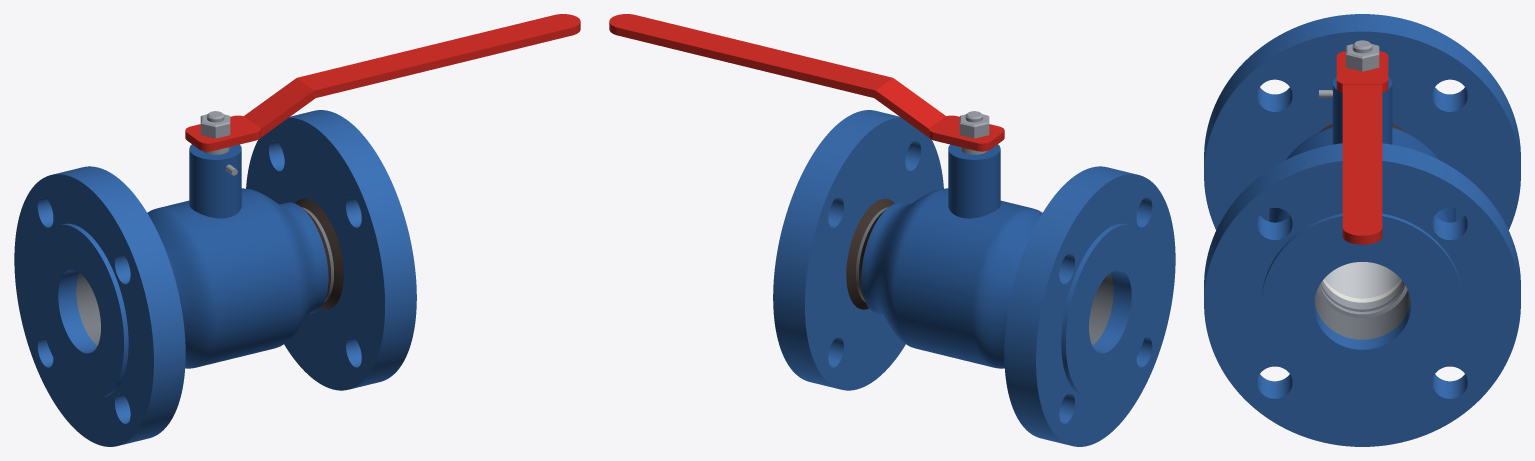
The model's file is kran_DN50_PN40_sborka.glb.
The picture shows the model from 3 angles, left to right: view 1: azimuth 30°, elevation 25°; view 2: azimuth 150°, elevation 25°; view 3: azimuth 270°, elevation 25°; orthographic projection. The views are drawn at different scales.
Parts seen in each view (by area): view 1: 12_flanets_L, 12_flanets_R, 03_korpus, 13_rukoyatka, shov_1_R, 04_patrubok_L, 14_gaika; view 2: 12_flanets_L, 12_flanets_R, 03_korpus, 13_rukoyatka, shov_1_R, 04_patrubok_L, 14_gaika; view 3: 12_flanets_R, 12_flanets_L, 13_rukoyatka, 03_korpus, 04_patrubok_R, 01_probka_sharovaya, 14_gaika, 08_shaiba_R, 06_vtulka_R, 05_koltso_upl_shara_R.
Boxes of the visible parts, left/top/right/bottom form: 12_flanets_L: left=14, top=166, right=185, bottom=446; 12_flanets_R: left=246, top=110, right=416, bottom=390; 03_korpus: left=147, top=144, right=328, bottom=368; 13_rukoyatka: left=185, top=14, right=580, bottom=151; shov_1_R: left=295, top=198, right=343, bottom=309; 04_patrubok_L: left=76, top=273, right=100, bottom=345; 14_gaika: left=200, top=114, right=230, bottom=138; 12_flanets_L: left=1004, top=166, right=1175, bottom=446; 12_flanets_R: left=773, top=110, right=943, bottom=390; 03_korpus: left=861, top=144, right=1042, bottom=368; 13_rukoyatka: left=609, top=14, right=1004, bottom=151; shov_1_R: left=846, top=198, right=894, bottom=309; 04_patrubok_L: left=1089, top=273, right=1113, bottom=345; 14_gaika: left=959, top=114, right=989, bottom=138; 12_flanets_R: left=1204, top=143, right=1520, bottom=446; 12_flanets_L: left=1204, top=14, right=1520, bottom=229; 13_rukoyatka: left=1336, top=51, right=1388, bottom=244; 03_korpus: left=1269, top=77, right=1455, bottom=222; 04_patrubok_R: left=1314, top=290, right=1410, bottom=339; 01_probka_sharovaya: left=1324, top=262, right=1400, bottom=298; 14_gaika: left=1345, top=44, right=1379, bottom=71; 08_shaiba_R: left=1317, top=284, right=1407, bottom=317; 06_vtulka_R: left=1321, top=281, right=1403, bottom=309; 05_koltso_upl_shara_R: left=1323, top=279, right=1401, bottom=302.
Bounding box in the file's own units: 330 × 189 × 160.
